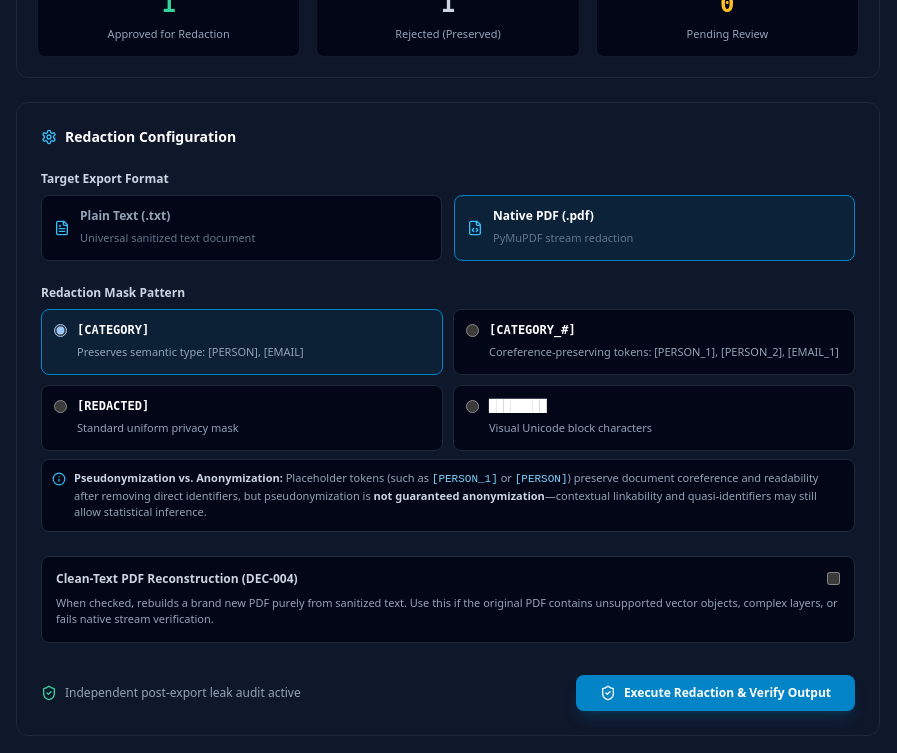
ExportView Page › displays verification failure alert when export verification fails
This screenshot has width=897, height=753.
(page scrolled)
Expected: the text "Execute Redaction & Verify Output" is shown, [624,684,831,700]
Click the button "Execute Redaction & Verify Output" at (715, 692), box [576,674,855,710]
(page scrolled)
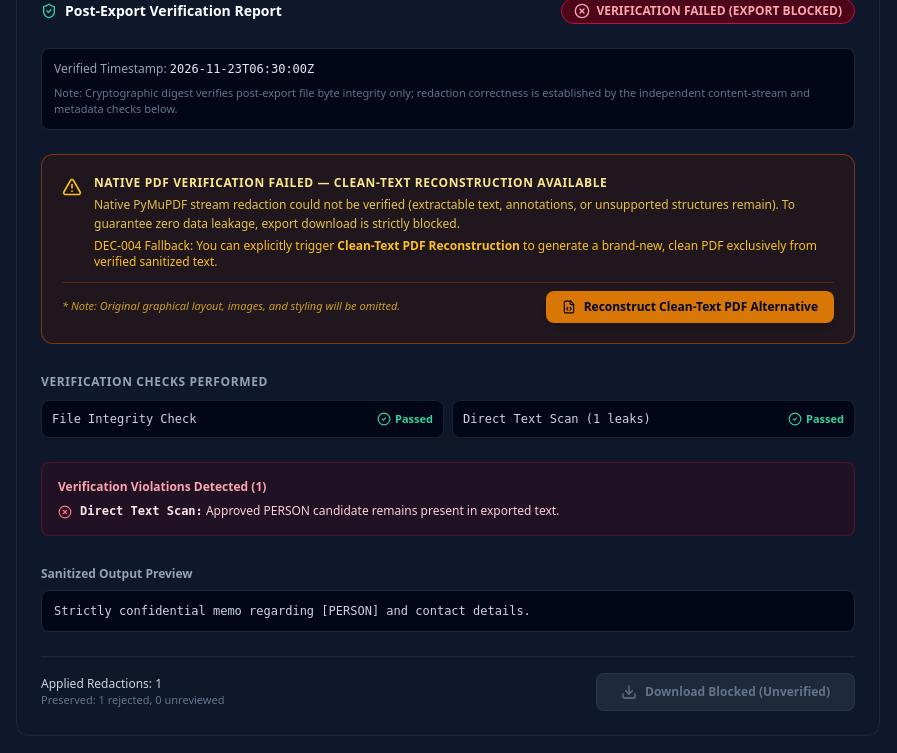
Result: the text "Approved PERSON candidate remains present in exported text." is shown at [206,502,559,518]
Result: the text "Download Blocked (Unverified)" is shown at [645,684,830,700]
